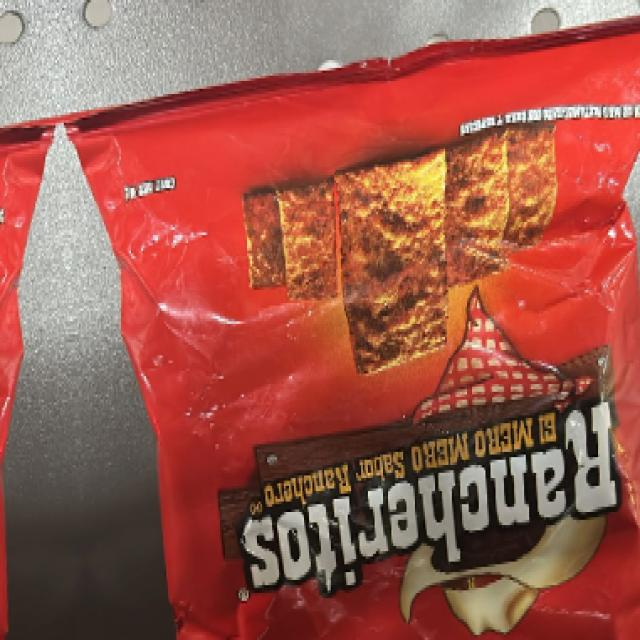rancheritos: (219, 75, 633, 630)
